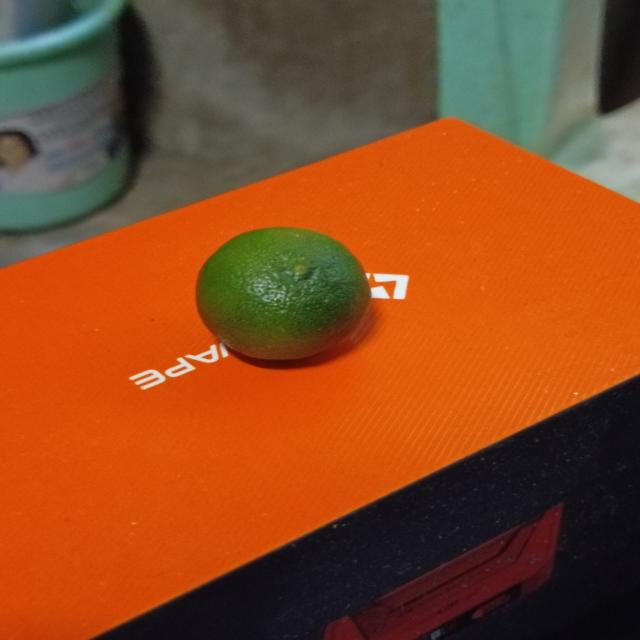heathy: (185, 224, 377, 370)
